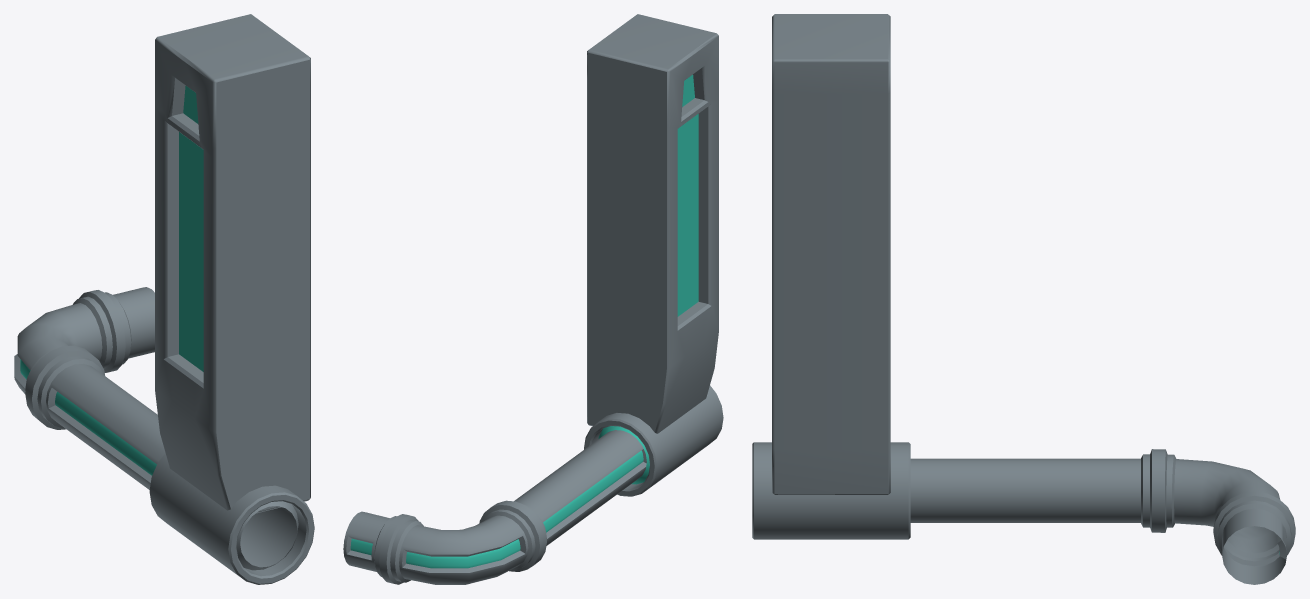
File: SM_machine.fbx
3 renders of one model, left to right at view 1: azimuth 30°, elevation 25°; view 2: azimuth 150°, elevation 25°; view 3: azimuth 270°, elevation 25°, orthographic. The views are drawn at different scales.
Parts seen in each view (by area): view 1: pCube38, polySurface76, polySurface78; view 2: pCube38, polySurface76, polySurface78; view 3: pCube38, polySurface76, polySurface78.
Part boxes in pixels (<box>): pCube38: <box>155,14,310,513</box>; polySurface76: <box>14,287,165,489</box>; polySurface78: <box>149,453,314,584</box>; pCube38: <box>587,14,718,433</box>; polySurface76: <box>343,430,646,584</box>; polySurface78: <box>584,385,723,496</box>; pCube38: <box>772,14,890,495</box>; polySurface76: <box>910,449,1295,584</box>; polySurface78: <box>752,442,910,539</box>.
Size of the model in its own units: 1430 by 3789 by 3738.
